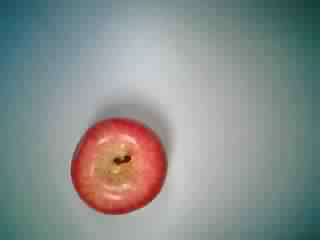apple: (66, 117, 170, 218)
